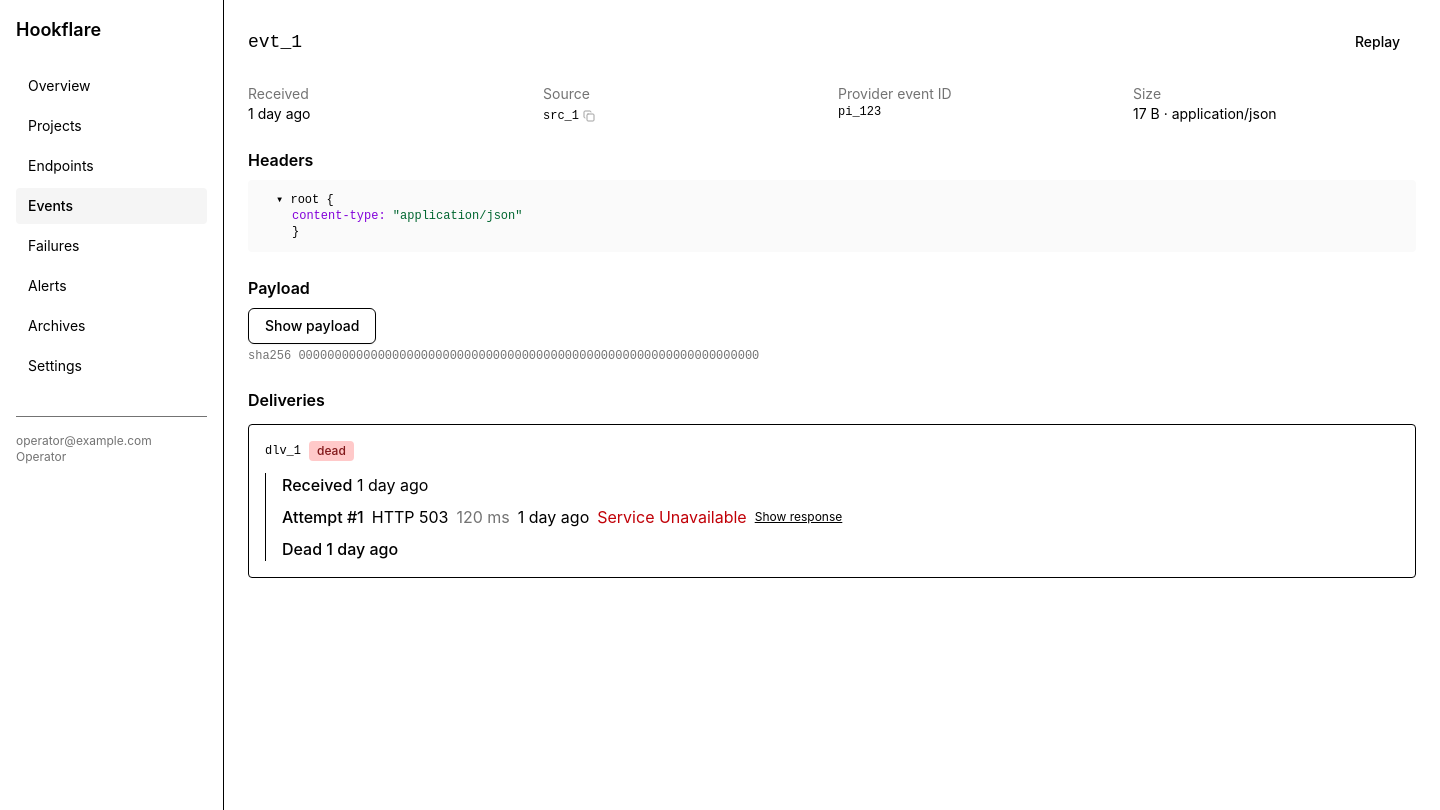
Test case: Event Detail › shows payload_missing as no longer available
Click the button "Show payload" at [312, 326], box [248,308,376,344]
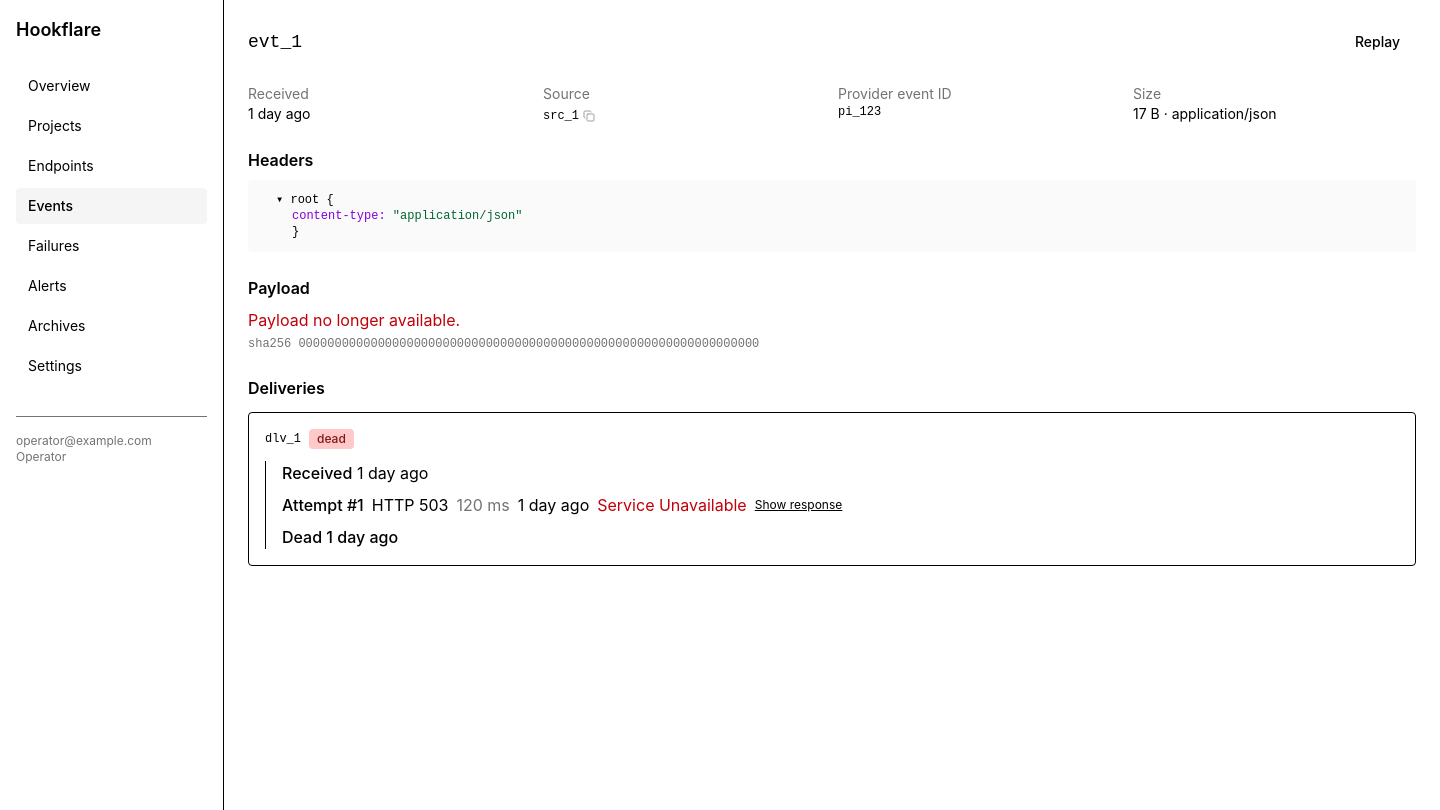
Expected: the text "Payload no longer available." is shown, [248,310,460,330]
